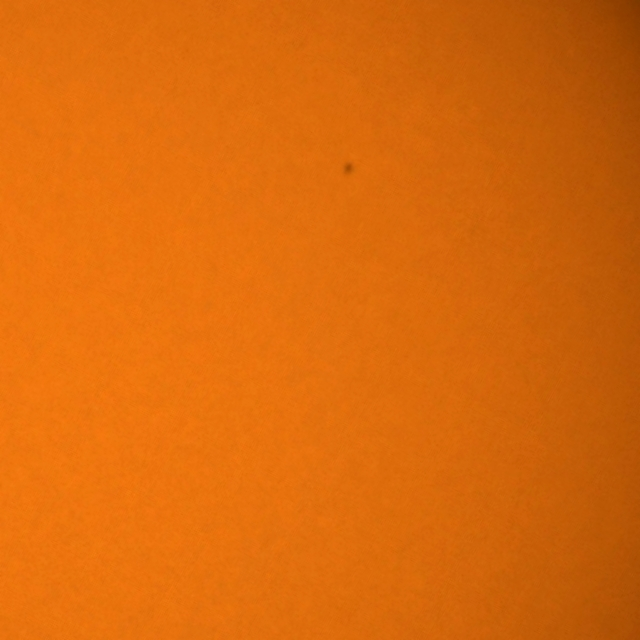sunspot: (340, 160, 357, 180)
